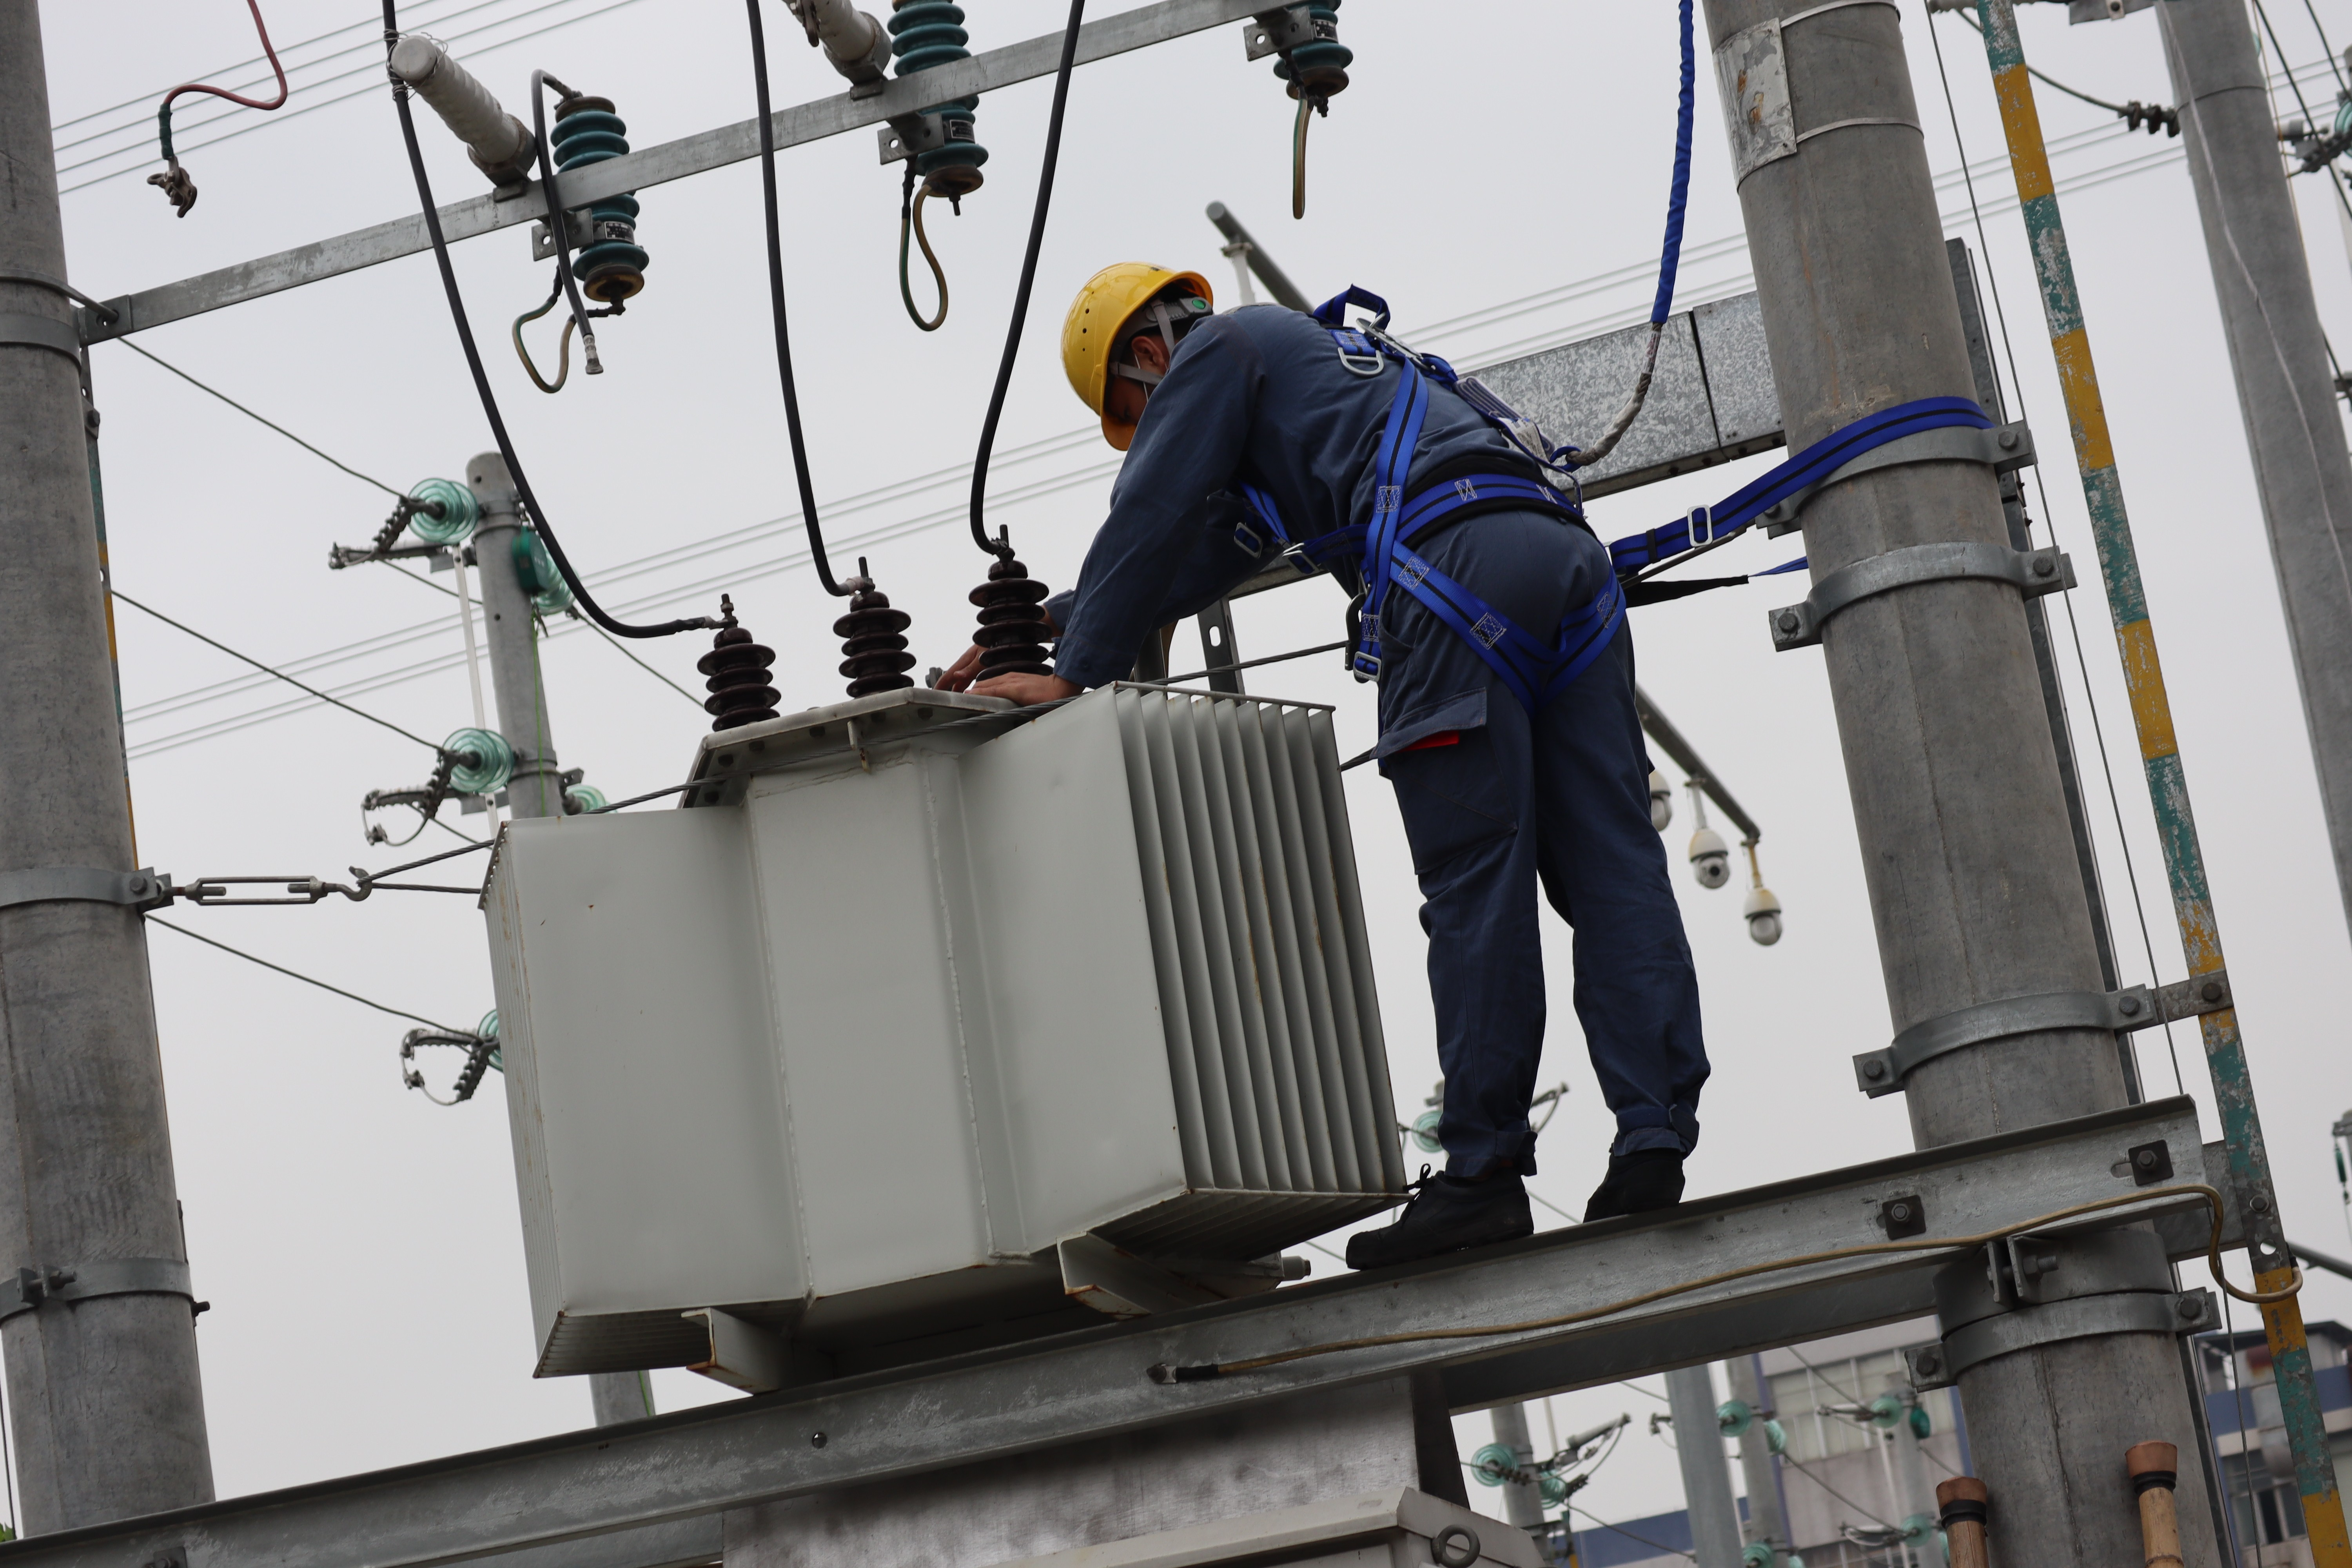downsuit: (1353, 549, 1722, 1153)
upsuit: (1081, 303, 1566, 590)
